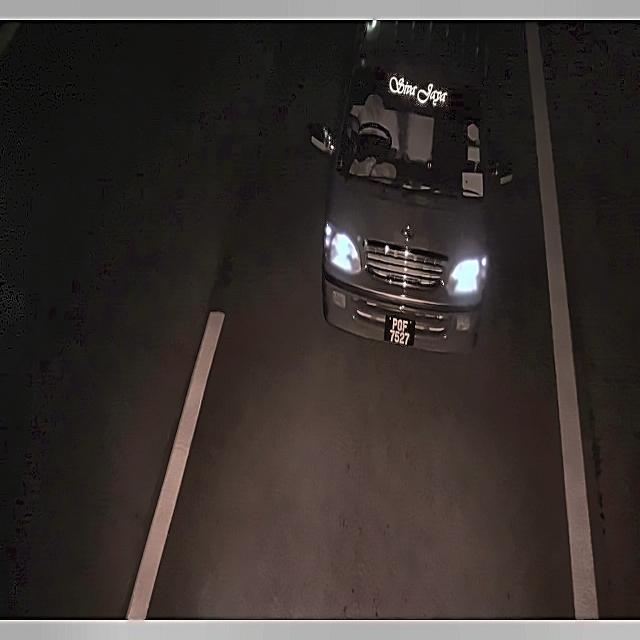car: (382, 309, 419, 351)
